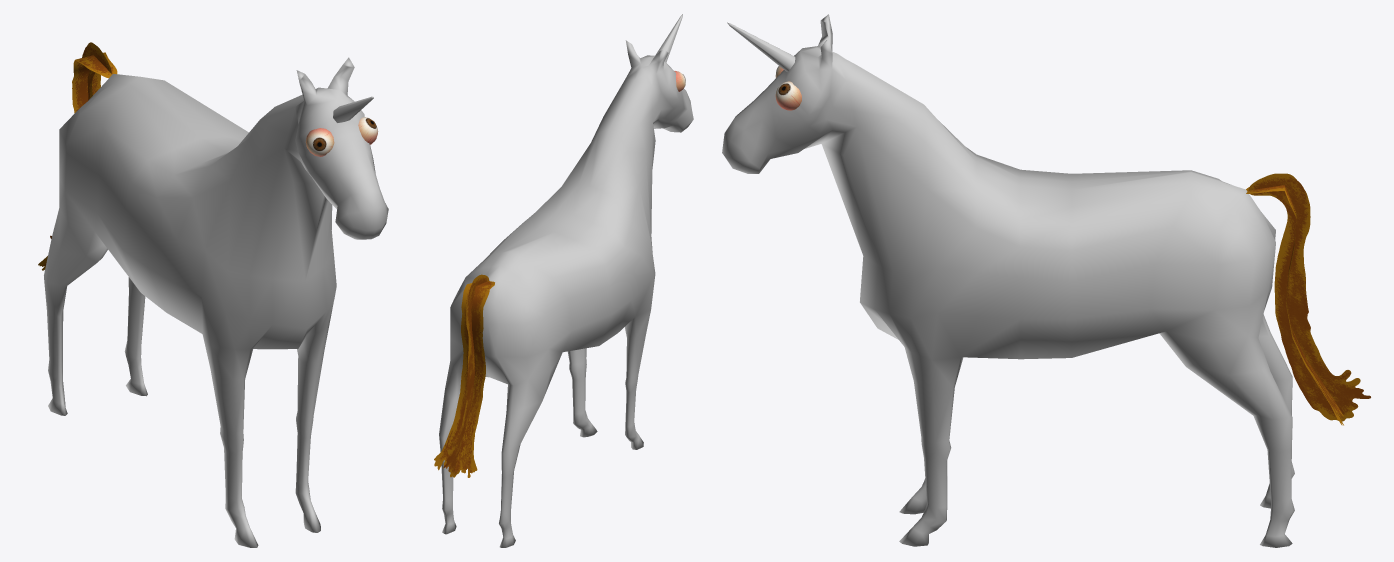
File: Cloppy_The_Fuck.FBX
The picture shows the model from 3 angles, left to right: view 1: azimuth 30°, elevation 25°; view 2: azimuth 150°, elevation 25°; view 3: azimuth 270°, elevation 25°; orthographic projection. The views are drawn at different scales.
Visible parts, largest first — view 1: Cloppy_The_Fuck, Plane007, LeftEye; view 2: Cloppy_The_Fuck, Plane007; view 3: Cloppy_The_Fuck, Plane007.
Boxes of the visible parts, x1,y1,x2,y2 form: Cloppy_The_Fuck: (44, 57, 388, 547); Plane007: (38, 42, 117, 270); LeftEye: (305, 128, 334, 156); Cloppy_The_Fuck: (439, 14, 693, 547); Plane007: (434, 274, 494, 477); Cloppy_The_Fuck: (722, 14, 1294, 547); Plane007: (1246, 173, 1370, 425).
Bounding box in the file's own units: 23.72 × 73.53 × 86.95.
